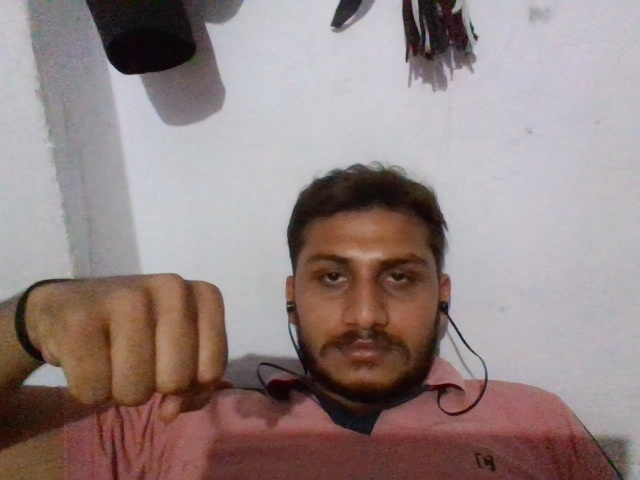Yes: (2, 252, 234, 428)
